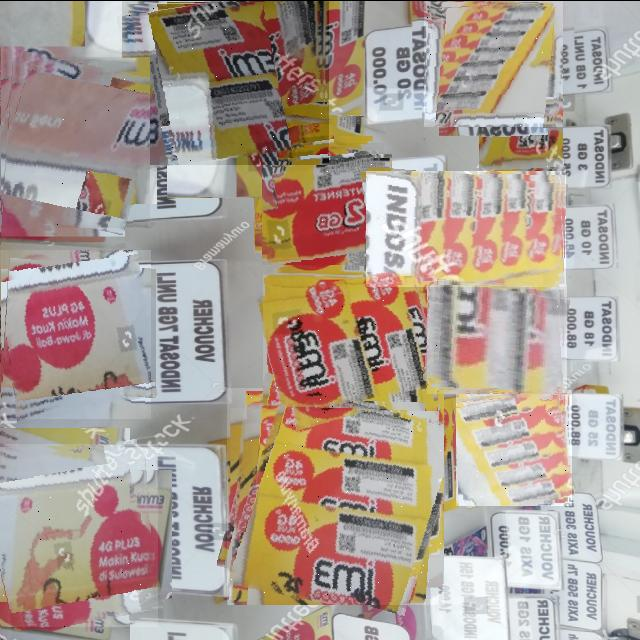im3: (227, 387, 444, 604), (122, 0, 329, 164), (0, 443, 158, 626), (0, 56, 150, 227), (0, 249, 151, 418), (263, 274, 438, 410), (366, 170, 566, 286), (424, 0, 563, 126), (427, 284, 567, 393), (262, 142, 384, 264), (456, 389, 572, 505), (479, 89, 563, 171)
